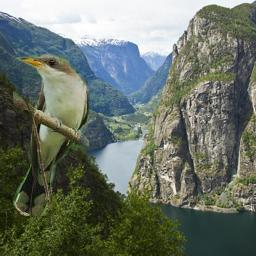Cuckoo: (13, 54, 89, 216)
